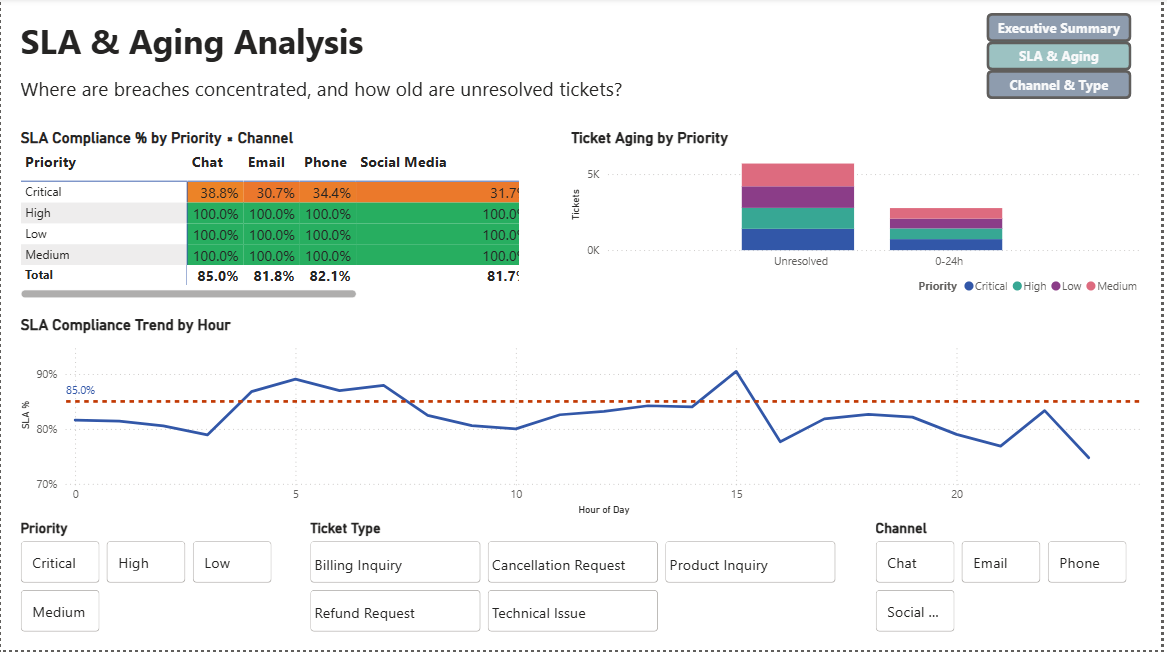

What the dashboard file says about the page in this screenshot:
{"tool":"powerbi","page":{"name":"SLA & Aging Analysis","canvas":[1280,720],"ordinal":1},"visuals":[{"type":"textbox","box":[16,16,832,64],"z":0},{"type":"textbox","box":[16,80,800,48],"z":1000},{"type":"pivotTable","title":"SLA Compliance % by Priority × Channel","fields":{"Rows":["tickets_clean.ticket_priority"],"Columns":["tickets_clean.ticket_channel"],"Values":["_Measures.SLA Compliance %"]},"box":[16,144,560,192],"z":2000},{"type":"columnChart","title":"Ticket Aging by Priority","fields":{"Category":["tickets_clean.aging_bucket"],"Y":["_Measures.Total Tickets"],"Series":["tickets_clean.ticket_priority"]},"box":[624,144,640,192],"z":3000},{"type":"lineChart","title":"SLA Compliance Trend by Hour","fields":{"Category":["tickets_clean.response_hour"],"Y":["_Measures.SLA Compliance %"]},"box":[16,352,1248,224],"z":4000},{"type":"advancedSlicerVisual","title":"Priority","fields":{"Values":["tickets_clean.ticket_priority"]},"box":[16,576,288,128],"z":5000},{"type":"advancedSlicerVisual","title":"Ticket Type","fields":{"Values":["tickets_clean.ticket_type"]},"box":[336,576,592,128],"z":6000},{"type":"advancedSlicerVisual","title":"Channel","fields":{"Values":["tickets_clean.ticket_channel"]},"box":[960,576,304,128],"z":7000},{"type":"actionButton","box":[1088,16,160,32],"z":8000},{"type":"actionButton","box":[1088,48,160,32],"z":9000},{"type":"actionButton","box":[1088,80,160,32],"z":10000}]}

Visuals, with their boxes in screenshot pixels (x1, y1, x2, y2), scaled from the page's 1280x720 canvas onto the 1167x652 screenshot:
textbox: box(15, 14, 773, 72)
textbox: box(15, 72, 744, 116)
"SLA Compliance % by Priority × Channel" pivotTable: box(15, 130, 525, 304)
"Ticket Aging by Priority" columnChart: box(569, 130, 1152, 304)
"SLA Compliance Trend by Hour" lineChart: box(15, 319, 1152, 522)
"Priority" advancedSlicerVisual: box(15, 522, 277, 638)
"Ticket Type" advancedSlicerVisual: box(306, 522, 846, 638)
"Channel" advancedSlicerVisual: box(875, 522, 1152, 638)
actionButton: box(992, 14, 1138, 43)
actionButton: box(992, 43, 1138, 72)
actionButton: box(992, 72, 1138, 101)
